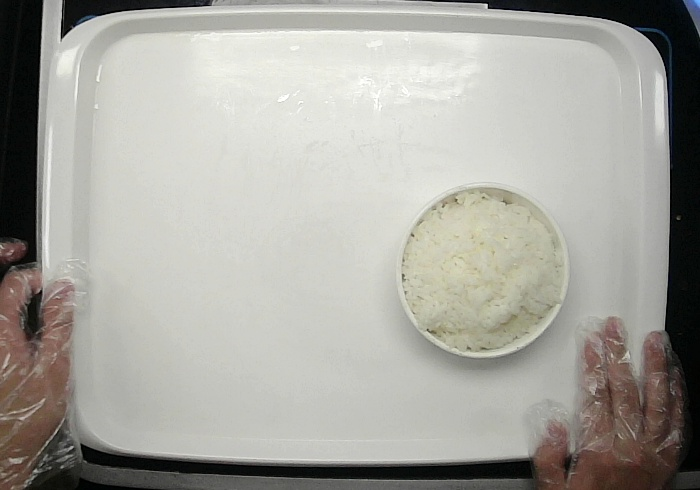HZYJPL-Fan_Wan: (394, 183, 569, 358)
